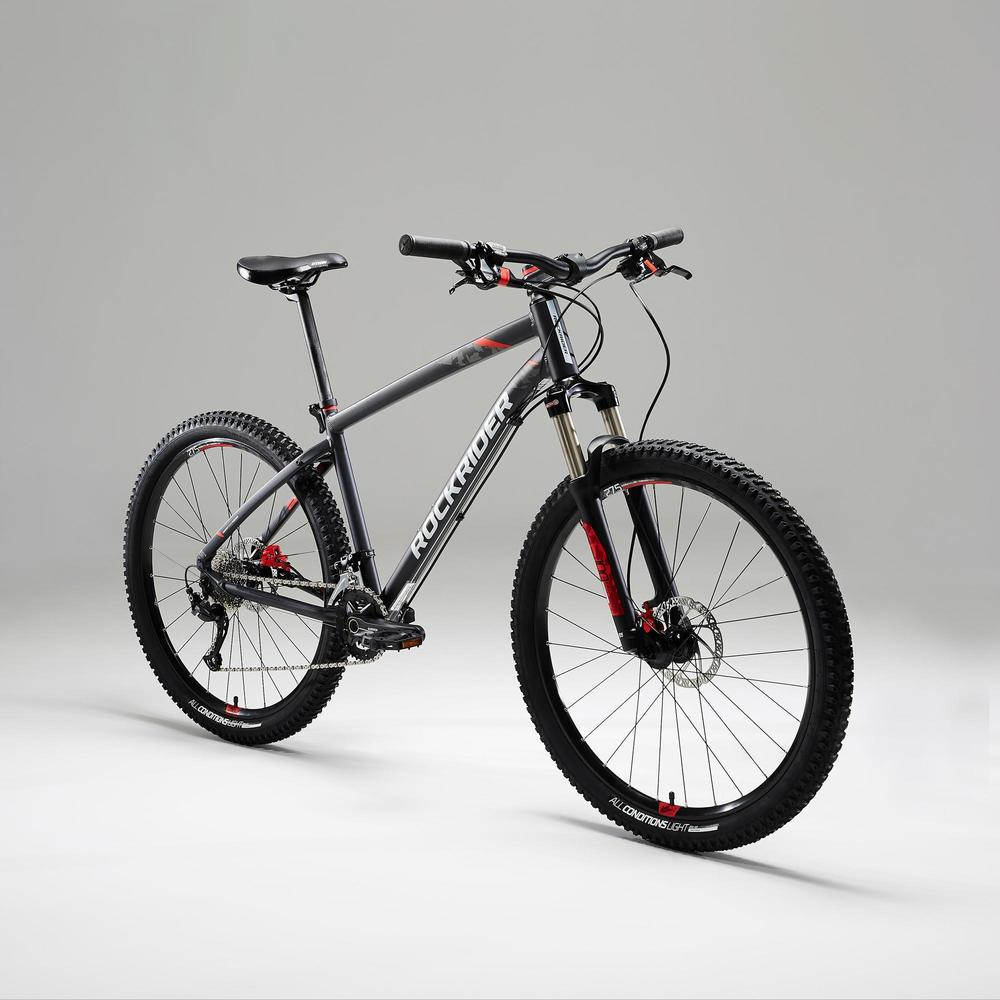MountainBike: (115, 223, 853, 851)
